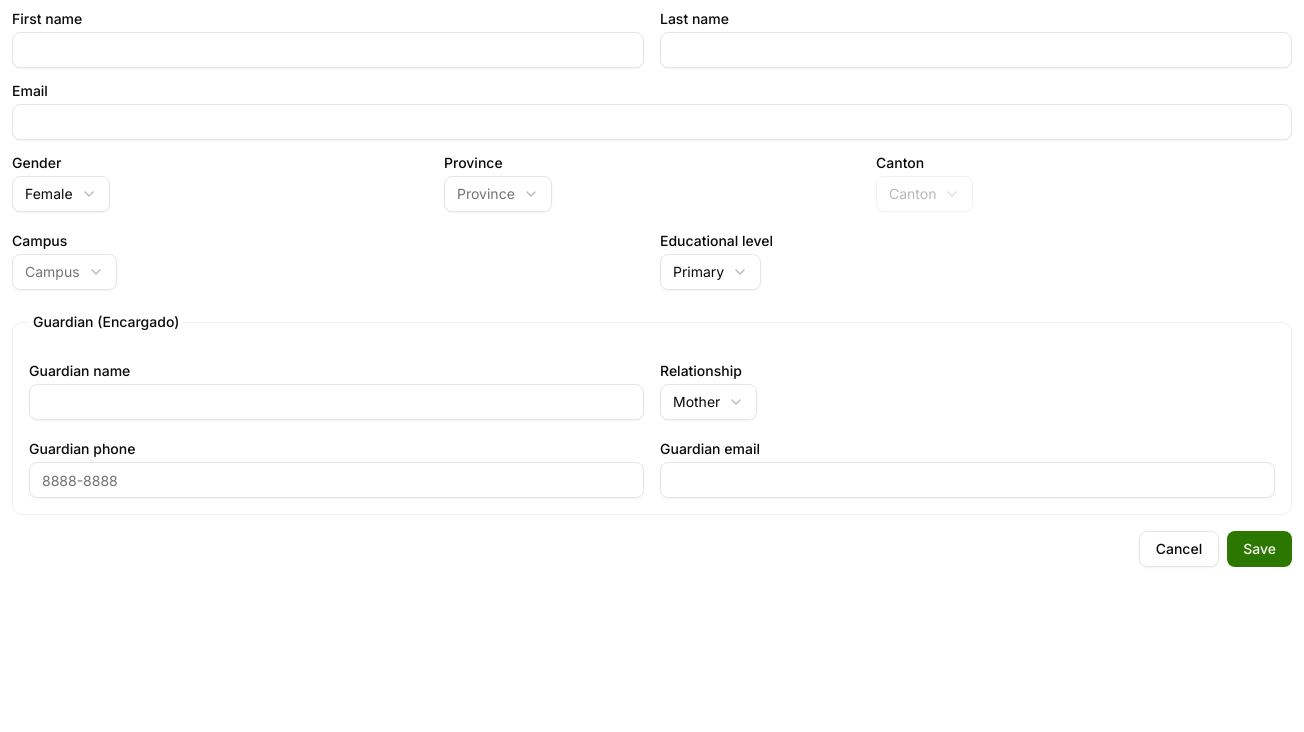
it: <StudentForm /> › shows validation errors on empty submit
The image size is (1304, 732).
What coordinates should you click on to do the following:
click the button "Save"
I would click on:
 (1260, 549)
Its box is [1227,531,1292,567].
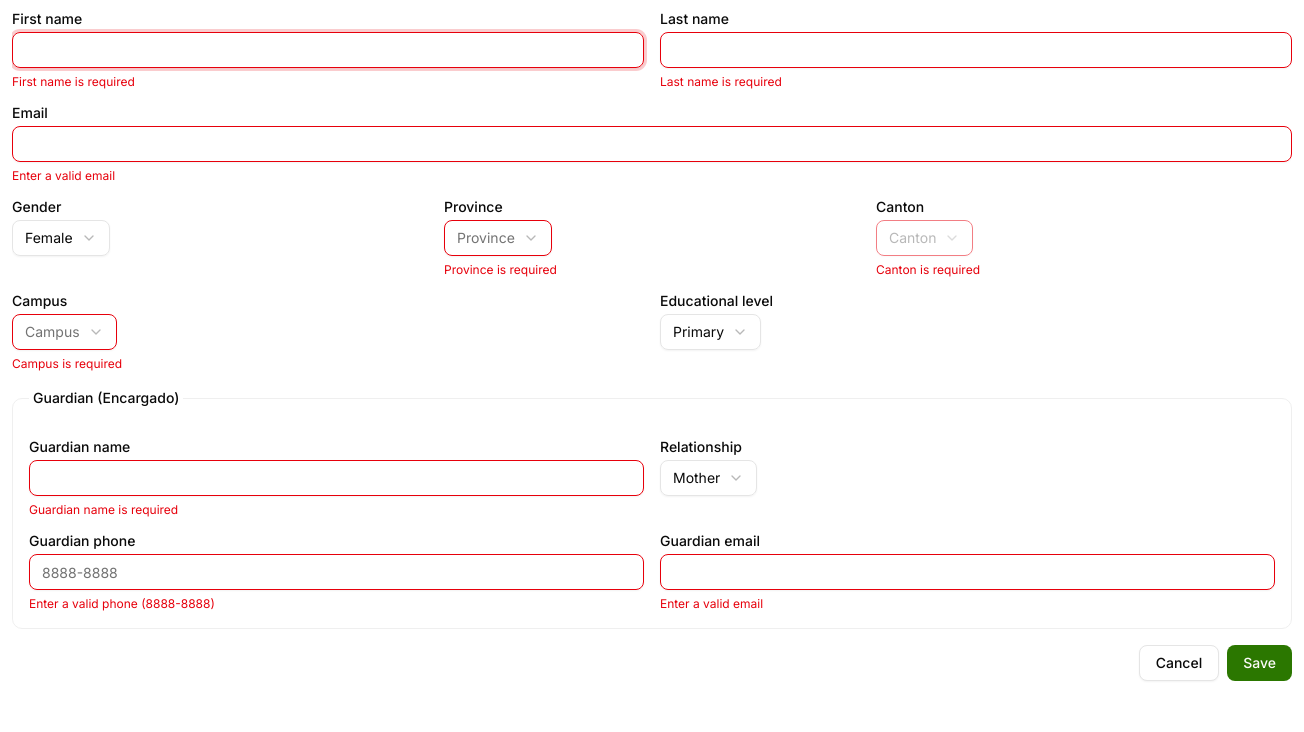
Result: the text "First name is required" is shown at [12,74,135,89]
Result: the text "Last name is required" is shown at [660,74,782,89]
Result: the 1st text "Enter a valid email" is shown at [12,168,115,183]
